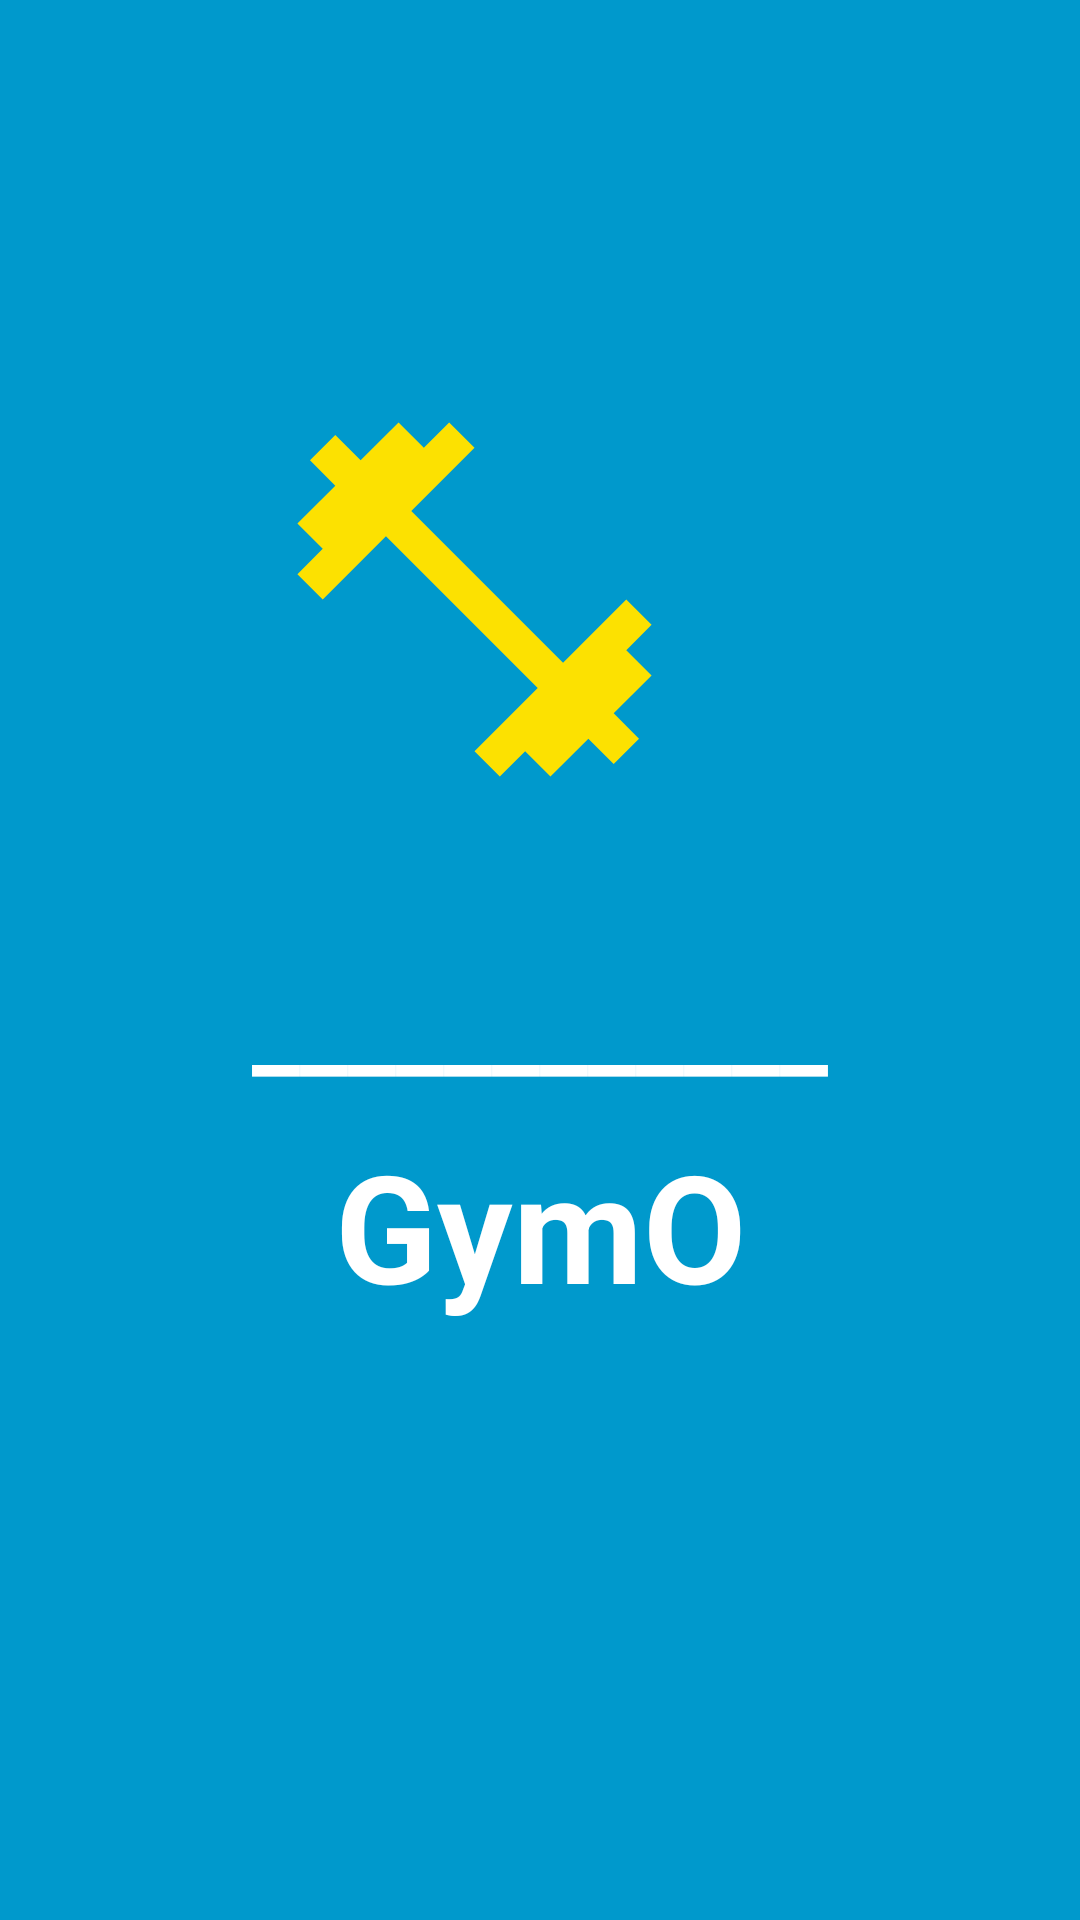

Screen size 1080x1920. Icon name, then its center in pixels as [x,y]:
fitness center: [474,599]
